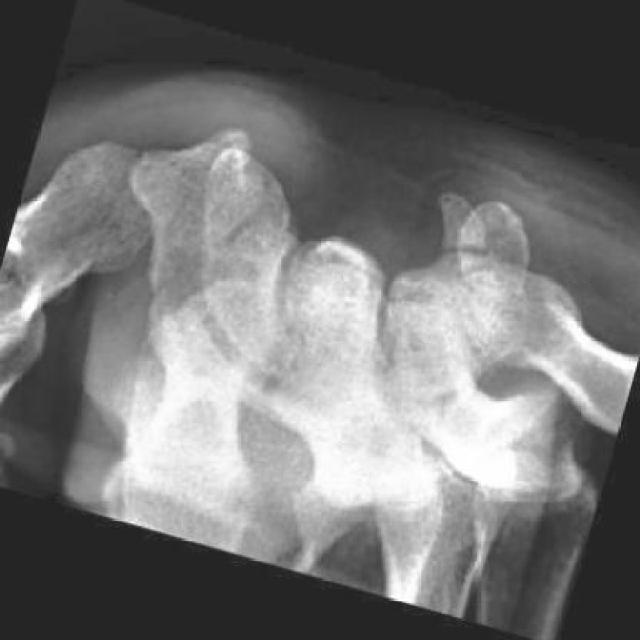Fracture: (436, 222, 502, 284)
